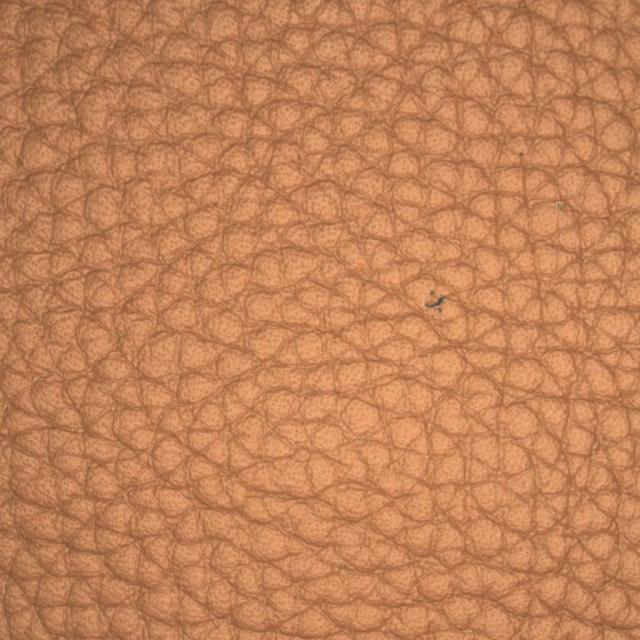Scratch: (360, 227, 525, 381)
